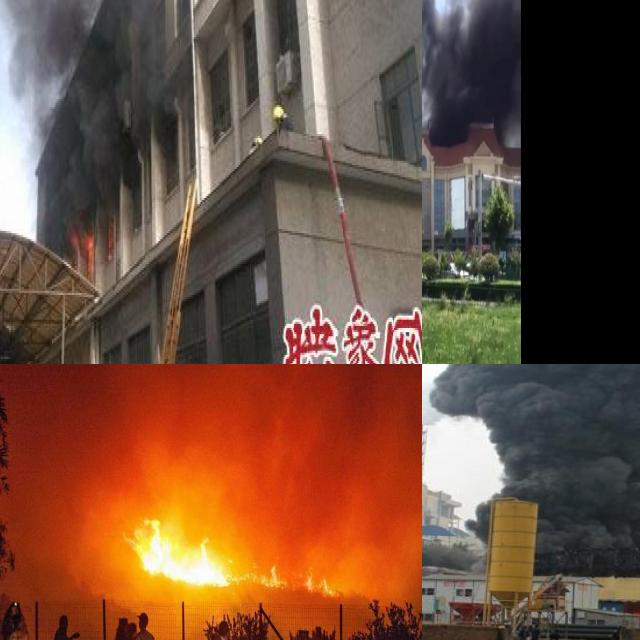fire: (130, 522, 344, 590), (73, 225, 96, 270), (106, 213, 115, 260), (635, 610, 640, 621)
smoke: (1, 364, 422, 548), (422, 364, 640, 571), (0, 0, 170, 222), (422, 0, 521, 149)
